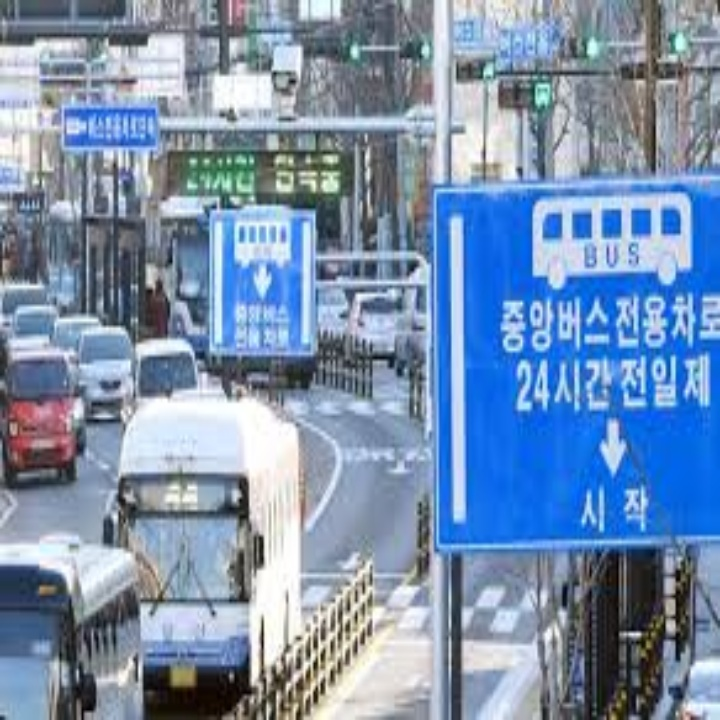bus: (524, 187, 702, 287), (233, 212, 295, 270)
